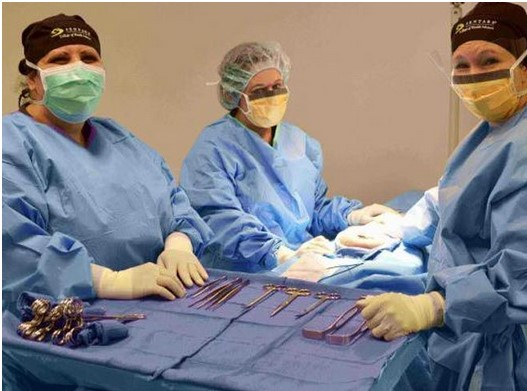face_with_mask: (20, 12, 108, 127), (447, 4, 527, 123), (218, 39, 292, 128)
